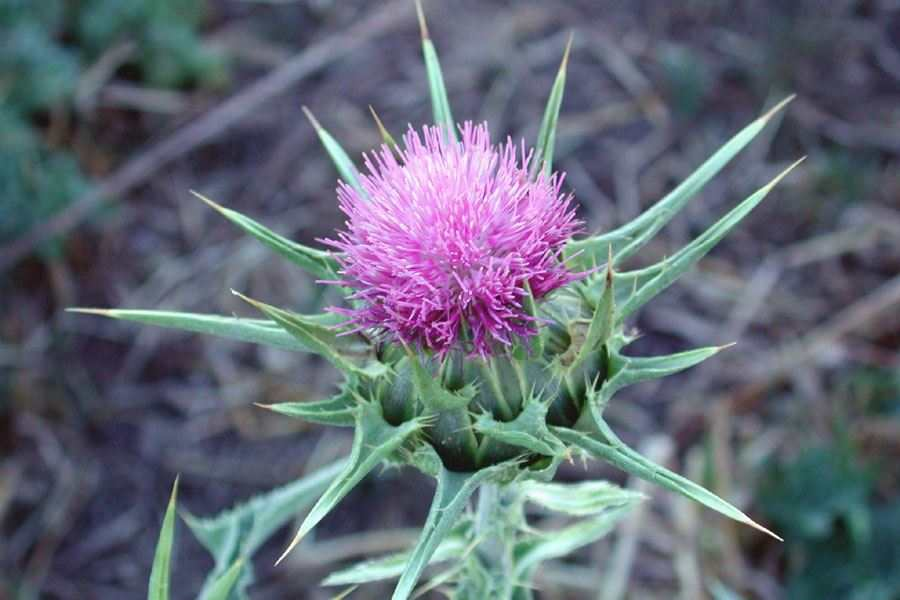thistle: (146, 23, 752, 515)
